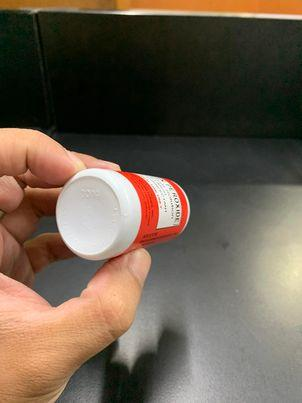-Bottle-: (55, 168, 192, 261)
